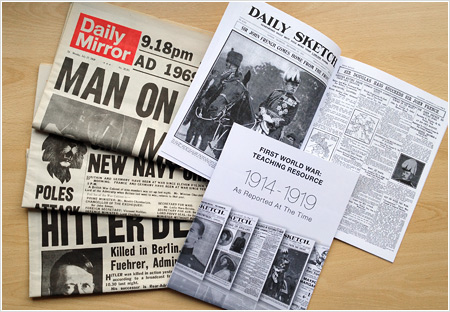news_paper: (110, 37, 450, 312), (15, 51, 353, 307), (24, 55, 422, 266), (154, 2, 450, 282), (1, 1, 399, 186), (147, 108, 372, 312)
